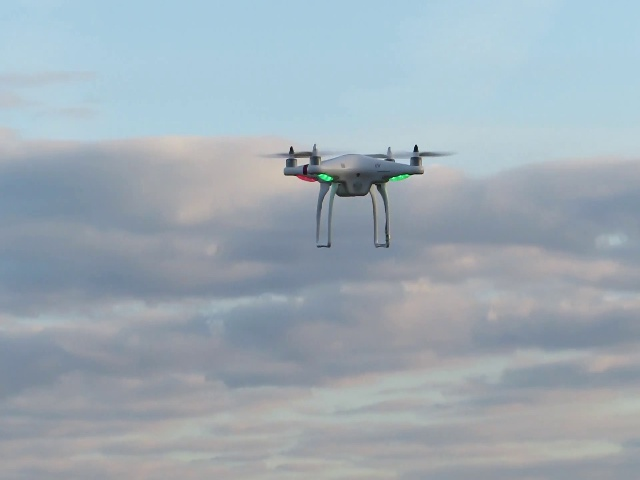drone: (269, 141, 445, 249)
